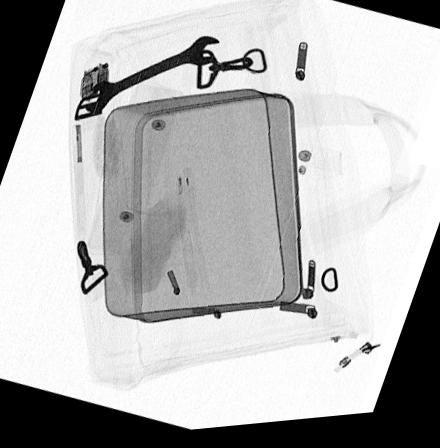Wrench: (80, 38, 224, 116)
